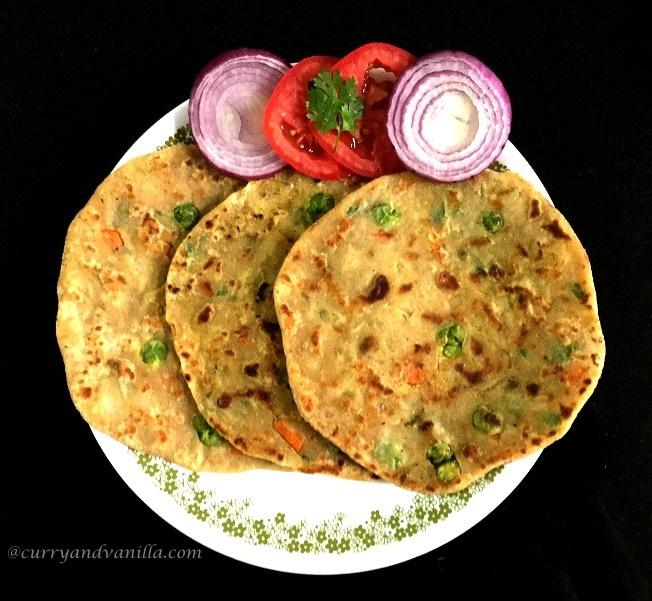paratha: (291, 178, 604, 499), (154, 177, 350, 467), (57, 151, 197, 455)
